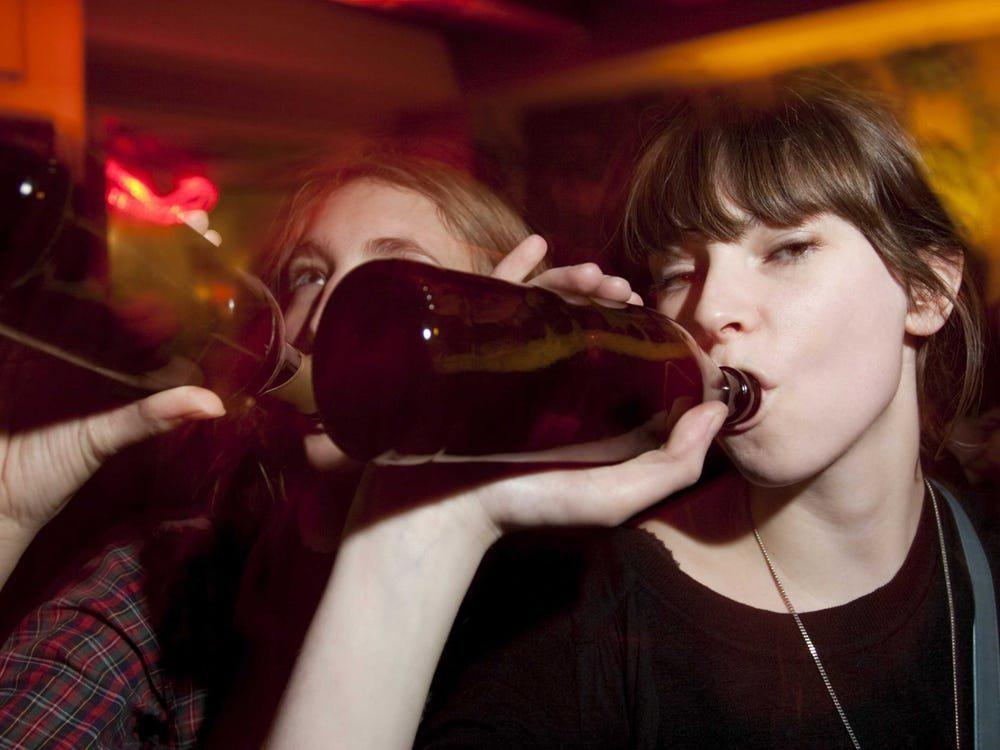Drunk: (641, 197, 903, 482)
